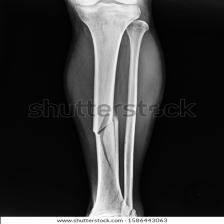impacted-fracture: (61, 0, 170, 218)
